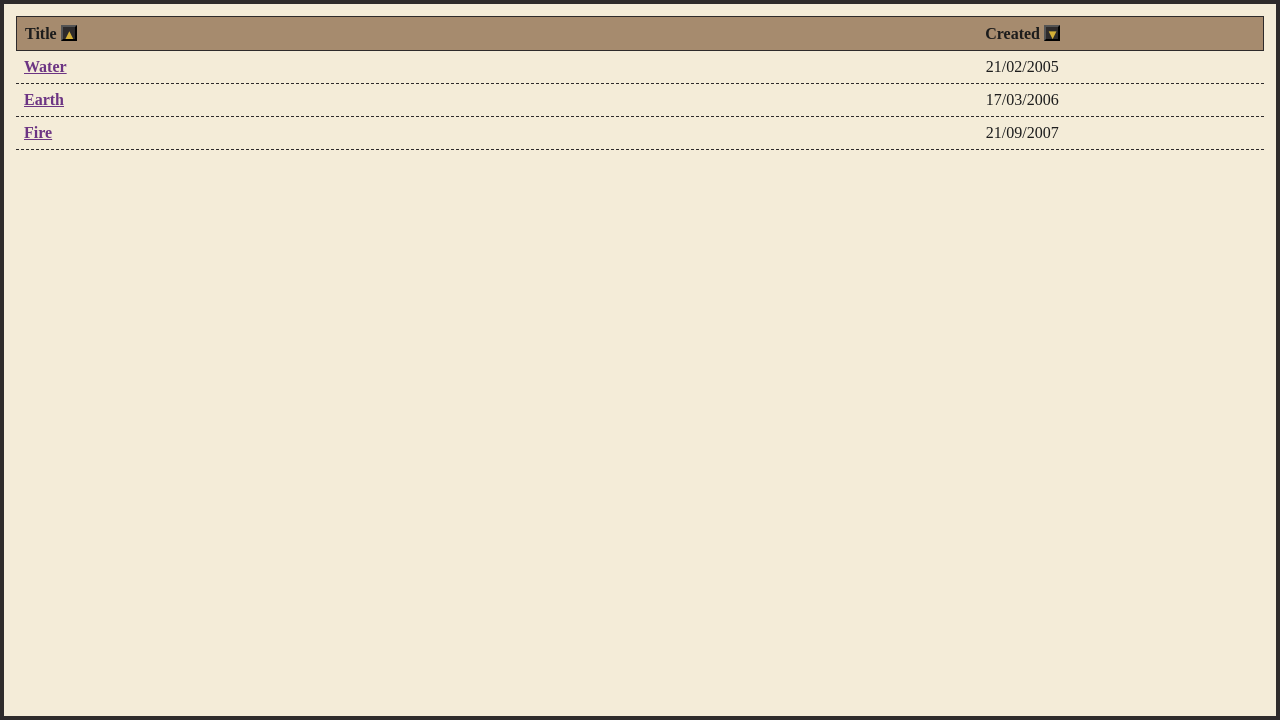
Campaigns can be sorted
Expected: the link "Water" is shown, [24,59,67,75]
Click the button "▲": (69, 33) [61,25,77,41]
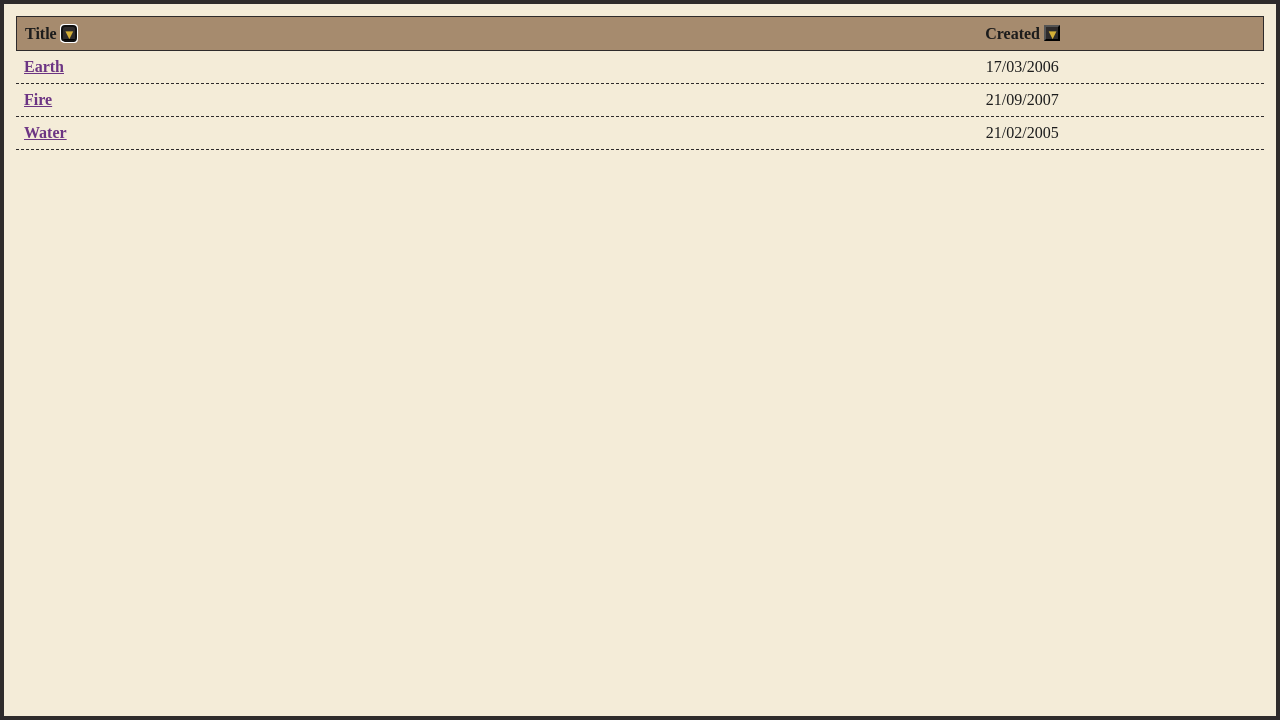
Expected: the links read "Earth", "Fire", "Water", in this order, [24,59,64,75]; [24,92,52,108]; [24,125,67,141]
